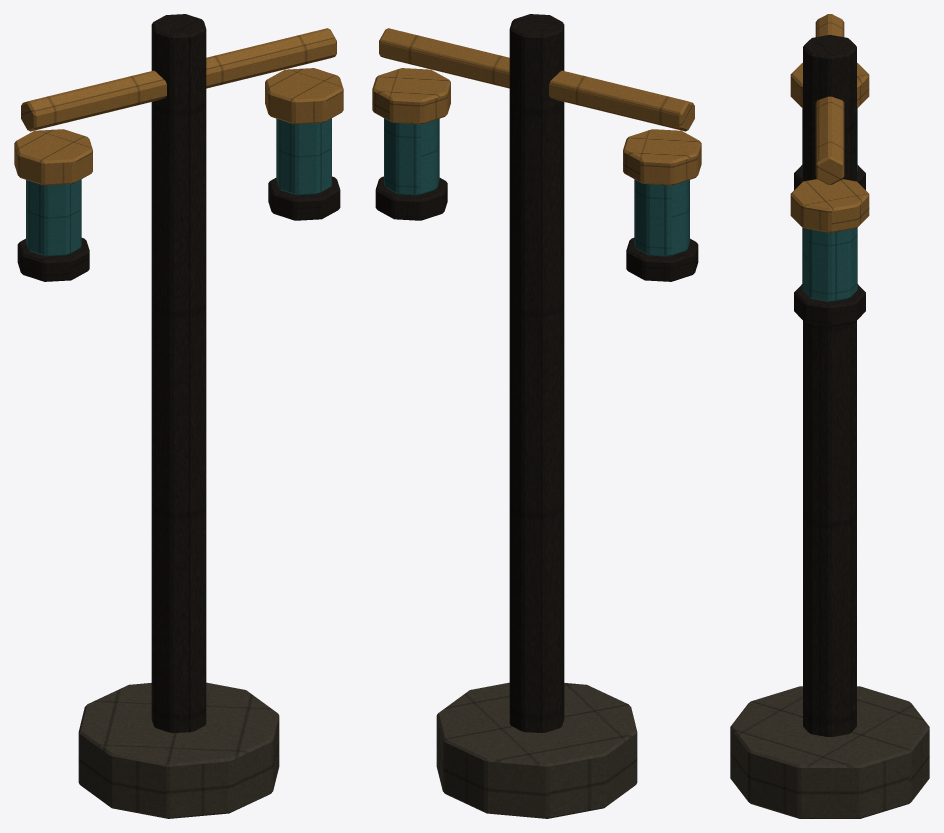
The model's file is harbor-lantern.e5.glb.
3 views of the same model, side by side, from view 1: azimuth 30°, elevation 25°; view 2: azimuth 150°, elevation 25°; view 3: azimuth 270°, elevation 25° (orthographic). The views are drawn at different scales.
Visible parts, largest first — view 1: HarborLanternE5; view 2: HarborLanternE5; view 3: HarborLanternE5.
Boxes of the visible parts, bbox=[...] form: HarborLanternE5: bbox=[14, 14, 343, 818]; HarborLanternE5: bbox=[372, 14, 701, 818]; HarborLanternE5: bbox=[730, 14, 929, 818].
Size of the model in its own units: 0.9714 by 2.18 by 0.5363.
Materials: 1 (1 with a texture image).
